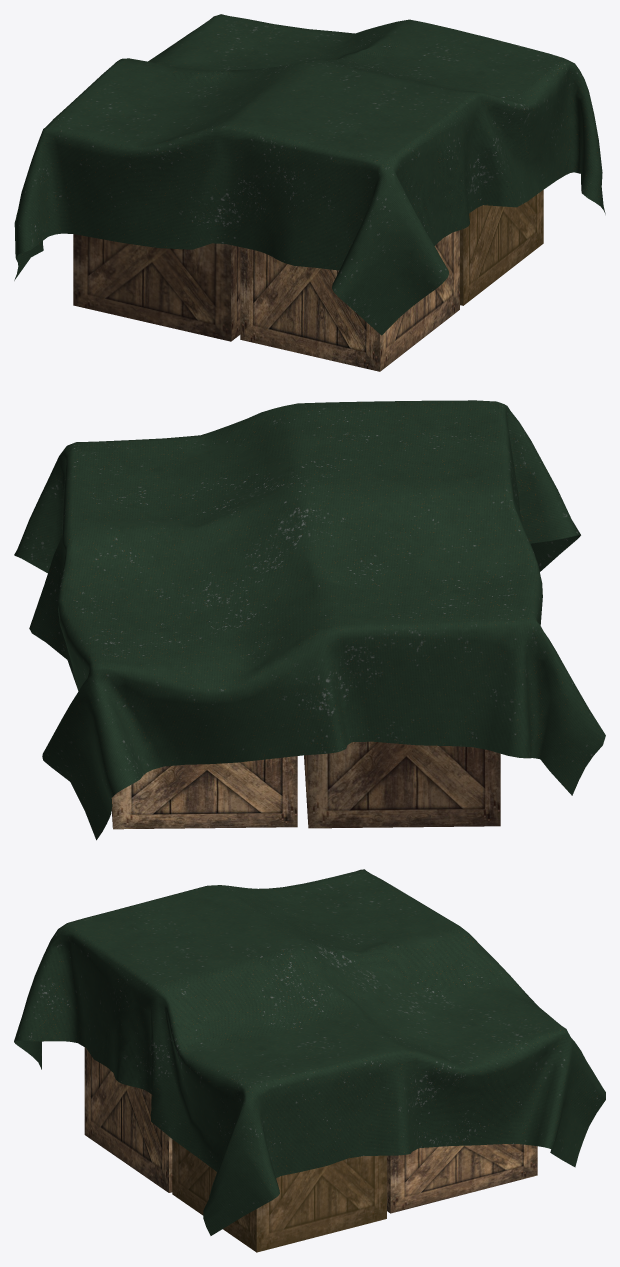
Rendered from tarp_crates.glb.
The picture shows the model from 3 angles, top to bottom: view 1: azimuth 30°, elevation 25°; view 2: azimuth 150°, elevation 25°; view 3: azimuth 270°, elevation 25°; orthographic projection. The views are drawn at different scales.
Visible parts, largest first — view 1: Tarp, TarpCrate1, TarpCrate4, TarpCrate2; view 2: Tarp, TarpCrate4, TarpCrate3; view 3: Tarp, TarpCrate2, TarpCrate3, TarpCrate1.
Part boxes in pixels (x1,y1,x2,y2): Tarp: (14, 14, 605, 335); TarpCrate1: (240, 230, 459, 371); TarpCrate4: (73, 234, 240, 341); TarpCrate2: (460, 190, 543, 305); Tarp: (14, 400, 605, 840); TarpCrate4: (304, 741, 500, 828); TarpCrate3: (111, 756, 297, 829); Tarp: (14, 869, 605, 1235); TarpCrate2: (172, 1139, 386, 1252); TarpCrate3: (387, 1144, 537, 1213); TarpCrate1: (84, 1047, 172, 1192).
Bounding box in the file's own units: 276 × 106 × 269.
5 materials, 5 textured.
